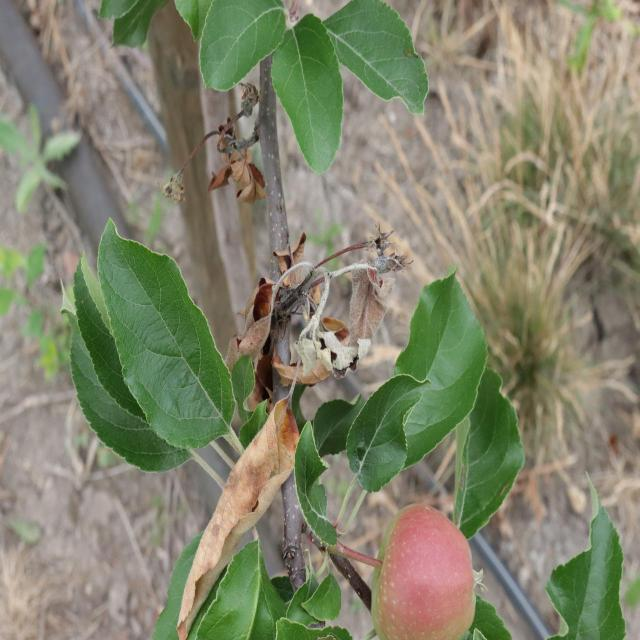-FireBlight-: (196, 380, 296, 634), (244, 233, 398, 395), (210, 106, 272, 212)
